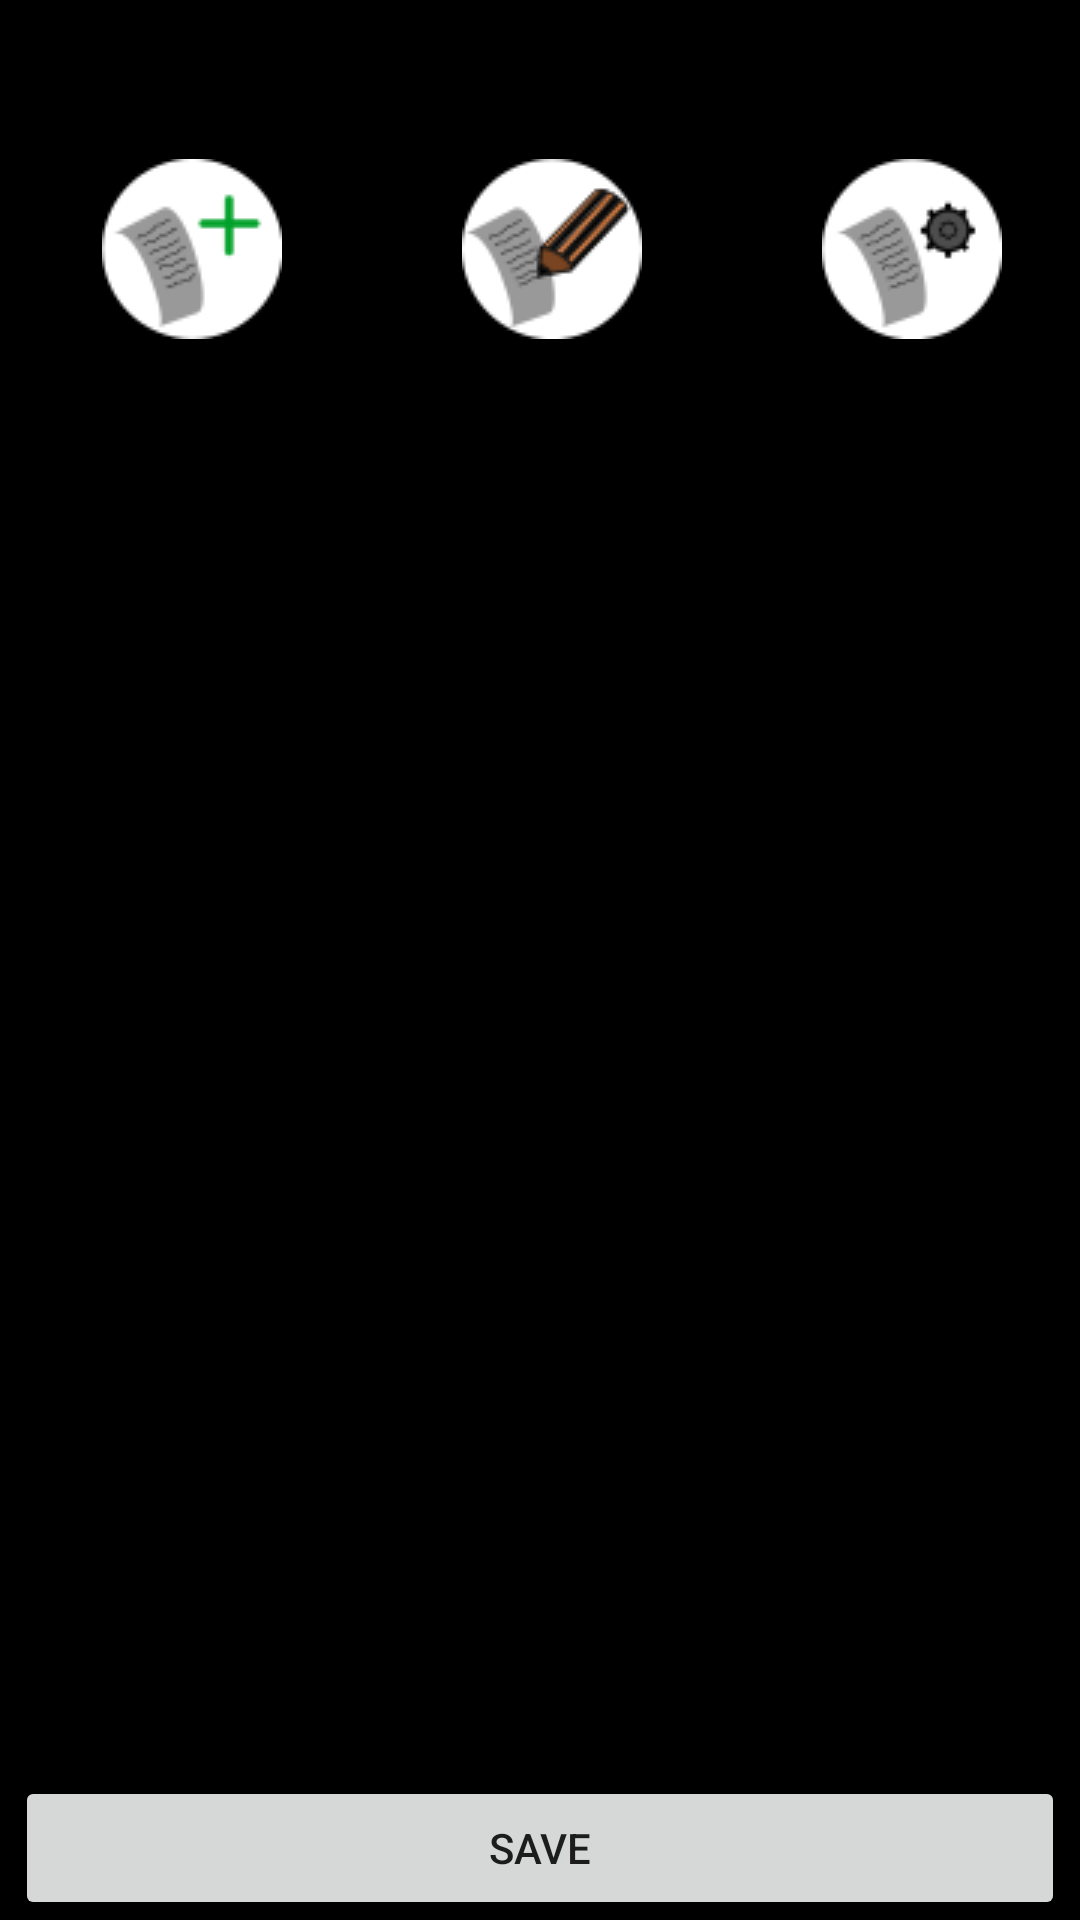

Icon bounding boxes for this 1080x1920 phone screenshot, format bbox=(x1, y1, x2, y2):
edittask: bbox=(462, 159, 642, 339)
newtask: bbox=(102, 159, 282, 339)
otheredit: bbox=(822, 159, 1002, 339)
